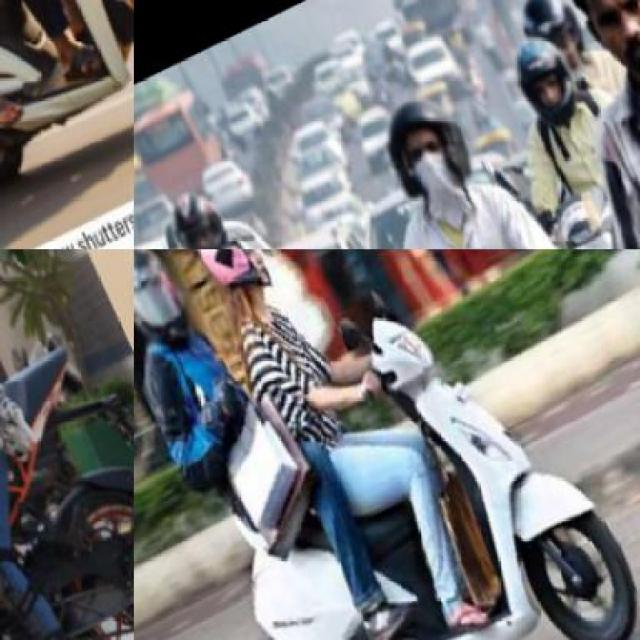With Helmet: (365, 78, 484, 218), (498, 23, 588, 135), (134, 249, 208, 369), (508, 0, 602, 94), (174, 249, 283, 314), (158, 182, 236, 248)
